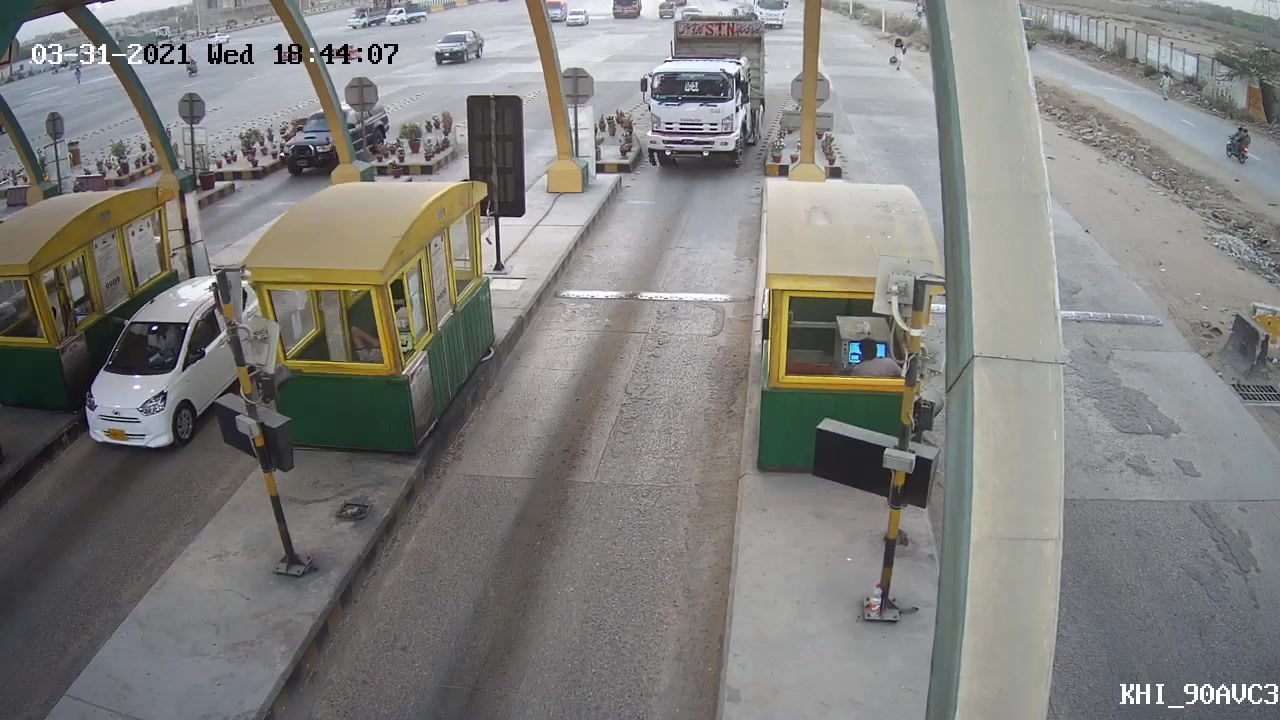F5: (619, 3, 781, 173)
